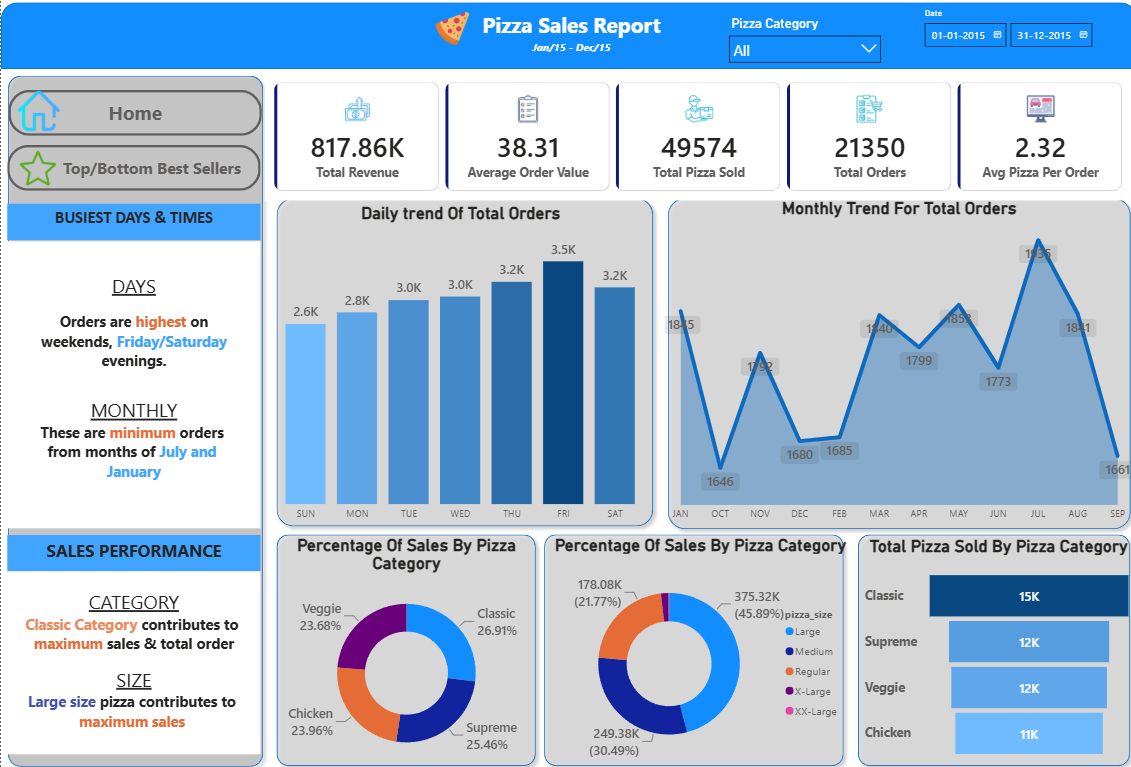

This screenshot's page, from the dashboard's own definition file:
{"tool":"powerbi","page":{"name":"Home","canvas":[1450,1000],"ordinal":0},"visuals":[{"type":"shape","box":[0,100,343.3,900],"z":0},{"type":"shape","box":[1085,686.7,365,313.3],"z":1000},{"type":"shape","box":[685,686.7,400,313.3],"z":2000},{"type":"shape","box":[343.3,686.7,348.3,313.3],"z":3000},{"type":"shape","box":[841.7,256.7,608.3,440],"z":4000},{"type":"shape","box":[343.3,256.7,498.3,436.7],"z":5000},{"type":"cardVisual","fields":{"Data":["pizza_sales.Total Revenue","pizza_sales.average_order_value","pizza_sales.total_pizza_sold","pizza_sales.total_order","pizza_sales.avg_pizza_per_order"]},"box":[331.7,100,1118.3,173.3],"z":6000},{"type":"shape","box":[0,15.4,1450,84.8],"z":7000},{"type":"textbox","box":[609.3,21.2,252.6,55.9],"z":8000},{"type":"image","box":[541.8,27,67.5,44.3],"z":9000},{"type":"textbox","box":[672.9,59.8,121.5,32.8],"z":10000},{"type":"columnChart","title":"Daily trend Of Total Orders","fields":{"Category":["pizza_sales.short_day_name"],"Y":["pizza_sales.total_order"]},"box":[331.7,273.3,510,413.3],"z":11000},{"type":"stackedAreaChart","title":"Monthly Trend For Total Orders","fields":{"Category":["pizza_sales.short_month_name"],"Y":["pizza_sales.total_order"]},"box":[841.7,266.7,608.3,420],"z":12000},{"type":"donutChart","title":"Percentage Of Sales By Pizza Category","fields":{"Category":["pizza_sales.pizza_category"],"Y":["pizza_sales.Total Revenue"]},"box":[351.7,695,333.3,305],"z":13000},{"type":"donutChart","title":"Percentage Of Sales By Pizza Category","fields":{"Category":["pizza_sales.pizza_size"],"Y":["pizza_sales.Total Revenue"]},"box":[700,695,385,305],"z":14000},{"type":"funnel","title":"Total Pizza Sold By Pizza Category","fields":{"Category":["pizza_sales.pizza_category"],"Y":["pizza_sales.total_pizza_sold"]},"box":[1098.3,696.7,351.7,303.3],"z":15000},{"type":"textbox","box":[8.3,273.3,323.3,46.7],"z":16000},{"type":"textbox","box":[8.3,320,323.3,366.7],"z":17000},{"type":"textbox","box":[8.3,695,323.3,46.7],"z":18000},{"type":"textbox","box":[8.3,741.7,323.3,233.3],"z":19000},{"type":"actionButton","box":[10,128.3,323.3,58.3],"z":20000},{"type":"image","box":[20,128.3,55,53.3],"z":21000},{"type":"actionButton","box":[8.3,198.3,323.3,58.3],"z":22000},{"type":"image","box":[23.3,191.7,46.7,71.7],"z":23000},{"type":"slicer","fields":{"Values":["pizza_sales.pizza_category"]},"box":[919,27.1,213.8,65.4],"z":24000},{"type":"slicer","fields":{"Values":["pizza_sales.order_date"]},"box":[1166.2,17.5,242.5,83],"z":25000}]}

Visuals, with their boxes in screenshot pixels (x1, y1, x2, y2), scaled from the page's 1450x1000 canvas onto the 1131x767 screenshot:
shape: [left=0, top=77, right=268, bottom=766]
shape: [left=846, top=527, right=1130, bottom=766]
shape: [left=534, top=527, right=846, bottom=766]
shape: [left=268, top=527, right=539, bottom=766]
shape: [left=657, top=197, right=1130, bottom=534]
shape: [left=268, top=197, right=656, bottom=532]
cardVisual - pizza_sales.Total Revenue x pizza_sales.average_order_value: [left=259, top=77, right=1130, bottom=210]
shape: [left=0, top=12, right=1130, bottom=77]
textbox: [left=475, top=16, right=672, bottom=59]
image: [left=423, top=21, right=475, bottom=55]
textbox: [left=525, top=46, right=620, bottom=71]
"Daily trend Of Total Orders" columnChart: [left=259, top=210, right=657, bottom=527]
"Monthly Trend For Total Orders" stackedAreaChart: [left=657, top=205, right=1130, bottom=527]
"Percentage Of Sales By Pizza Category" donutChart: [left=274, top=533, right=534, bottom=766]
"Percentage Of Sales By Pizza Category" donutChart: [left=546, top=533, right=846, bottom=766]
"Total Pizza Sold By Pizza Category" funnel: [left=857, top=534, right=1130, bottom=766]
textbox: [left=6, top=210, right=259, bottom=245]
textbox: [left=6, top=245, right=259, bottom=527]
textbox: [left=6, top=533, right=259, bottom=569]
textbox: [left=6, top=569, right=259, bottom=748]
actionButton: [left=8, top=98, right=260, bottom=143]
image: [left=16, top=98, right=58, bottom=139]
actionButton: [left=6, top=152, right=259, bottom=197]
image: [left=18, top=147, right=55, bottom=202]
slicer - pizza_sales.pizza_category: [left=717, top=21, right=884, bottom=71]
slicer - pizza_sales.order_date: [left=910, top=13, right=1099, bottom=77]
